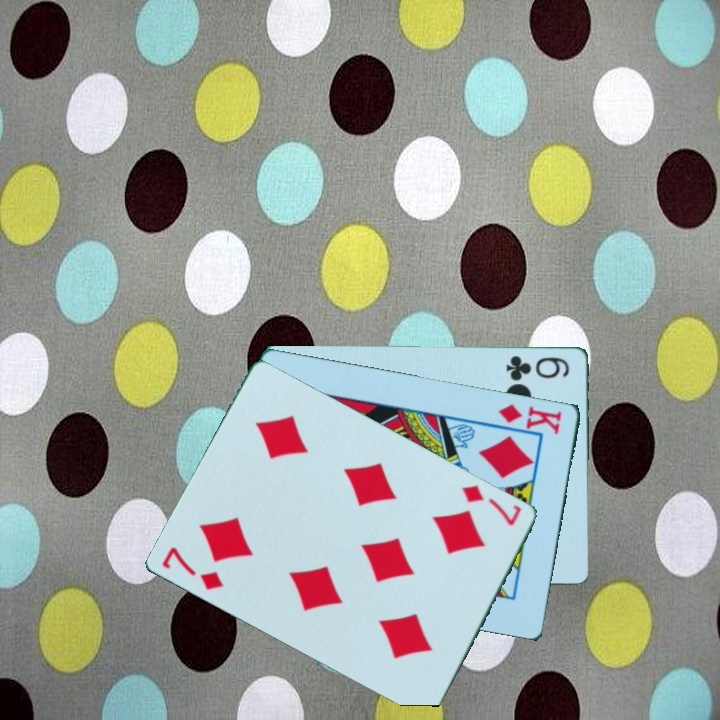6c: (503, 352, 573, 381)
7d: (159, 543, 227, 594), (458, 481, 525, 529)
Kd: (495, 400, 565, 437)
